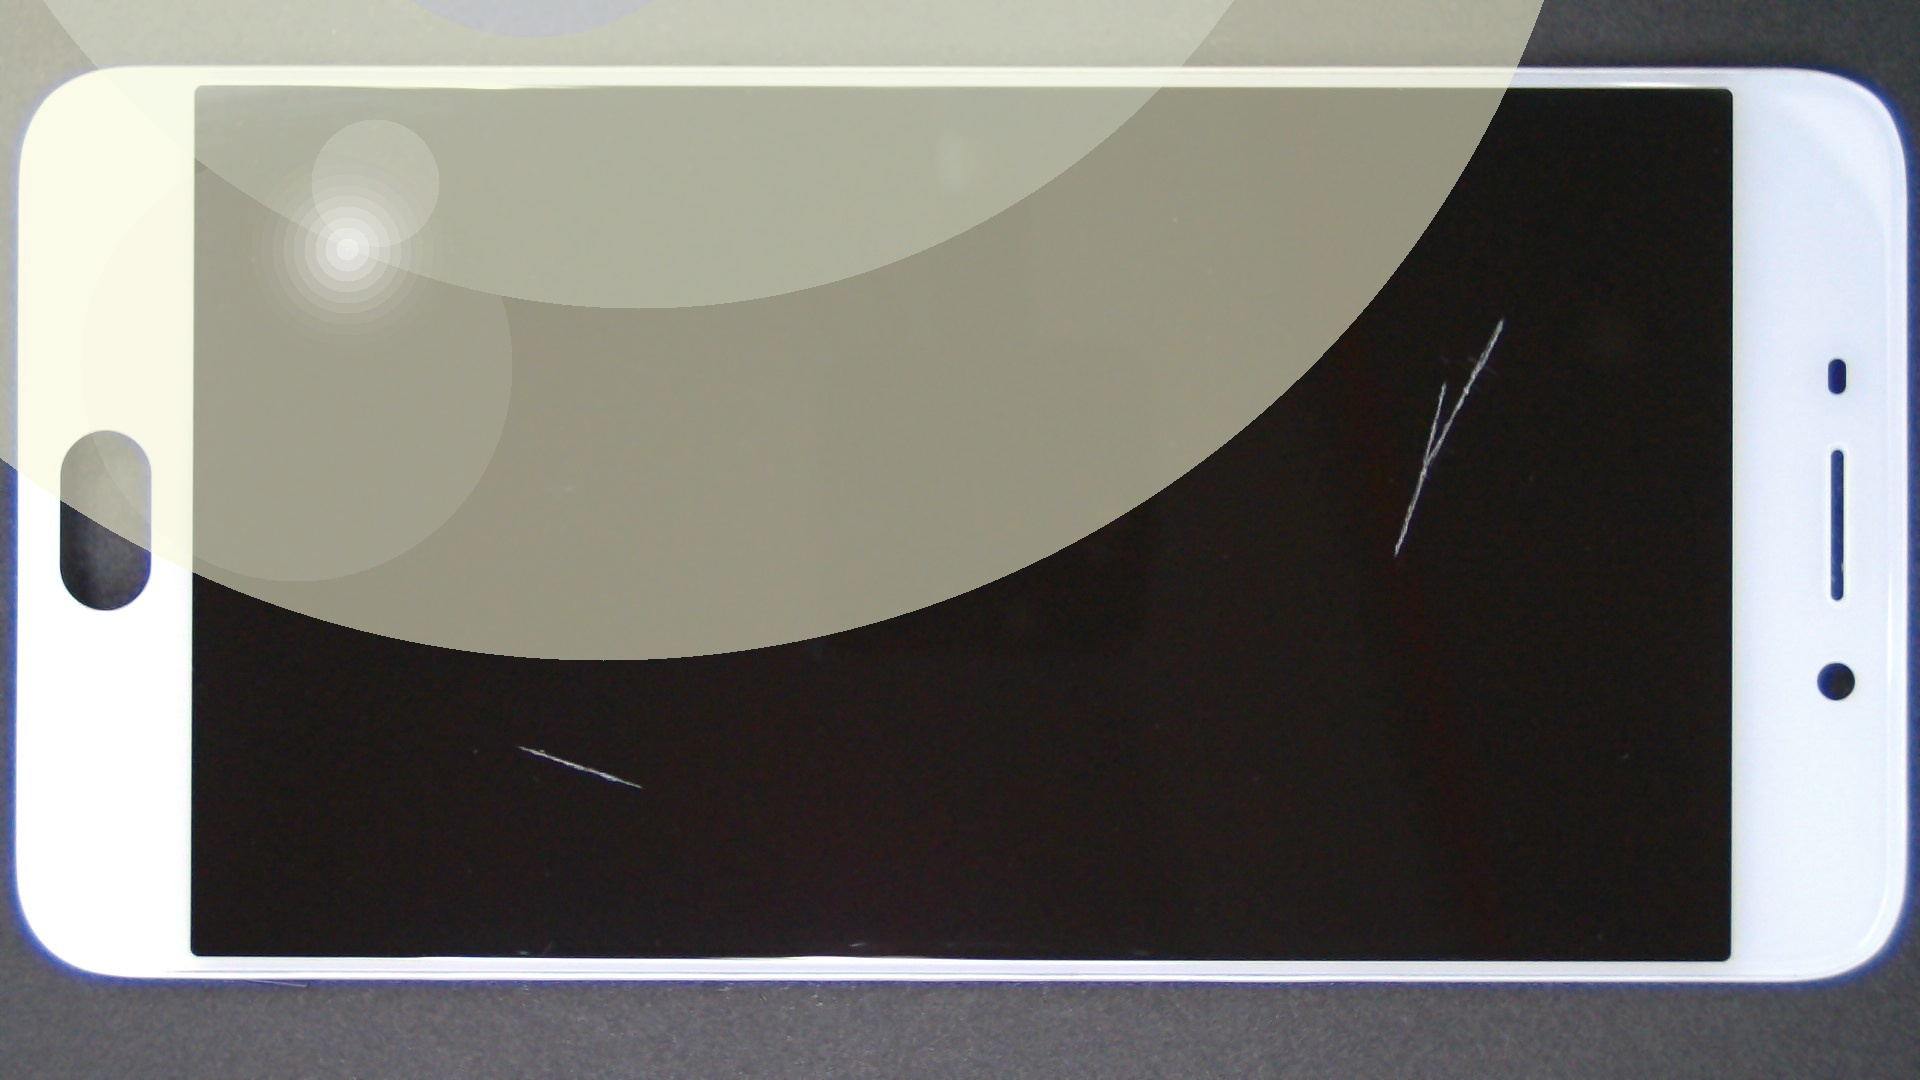oil: (753, 157, 1920, 479), (261, 372, 779, 1080)
